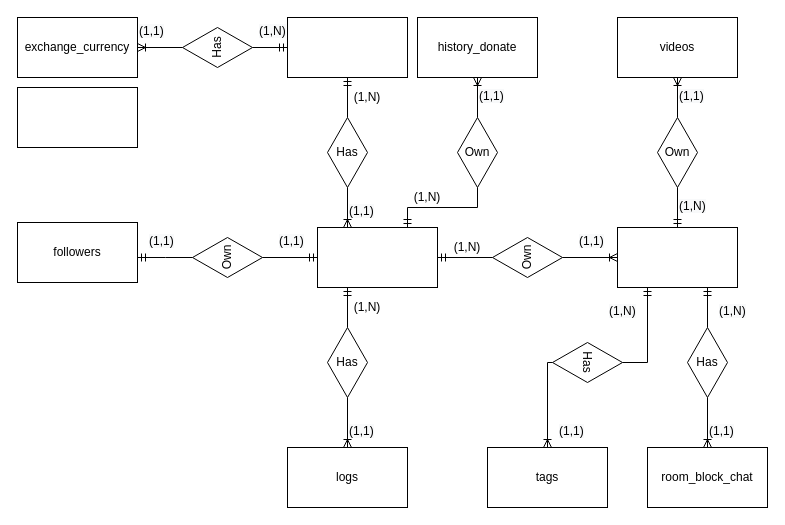
The diagram is 785 pixels wide and 525 high, and some of its shapes have lost their labels. Here are the shapes that lost their labels. From the top down, the centre of each, then its label:
At (347,47): "history_purchase".
At (77,117): "options_purchase".
At (377,257): "users".
At (677,257): "rooms".
